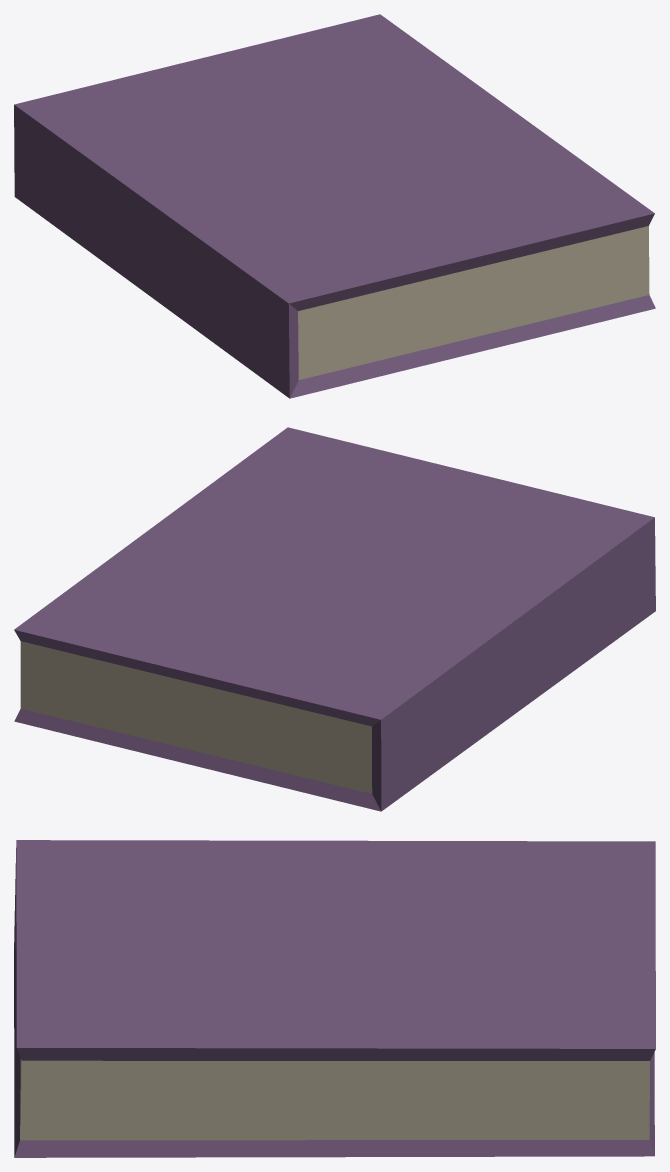
File: Book_2.gltf
The picture shows the model from 3 angles, top to bottom: view 1: azimuth 30°, elevation 25°; view 2: azimuth 150°, elevation 25°; view 3: azimuth 270°, elevation 25°; orthographic projection. The views are drawn at different scales.
Parts seen in each view (by area): view 1: Book_22; view 2: Book_22; view 3: Book_22.
Part boxes in pixels (x1,y1,x2,y2): Book_22: [14, 14, 655, 398]; Book_22: [14, 427, 655, 811]; Book_22: [14, 840, 655, 1157].
Size of the model in its own units: 0.0684 by 0.0169 by 0.0889.
Materials: 1 (1 with a texture image).
